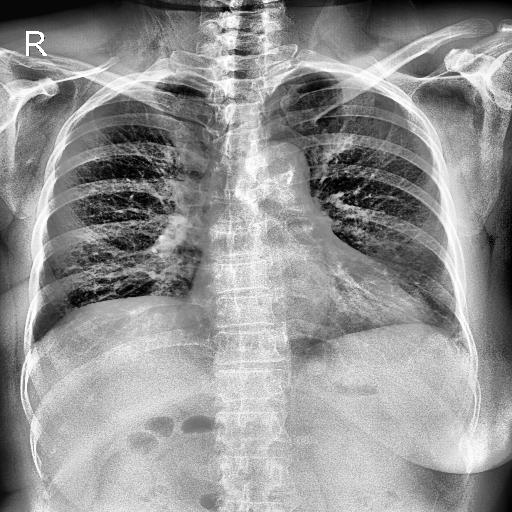0- Aortic enlargement: (247, 146, 312, 206), (260, 140, 310, 182)
3- Cardiomegaly: (184, 267, 432, 345), (186, 264, 432, 332), (186, 262, 416, 326)
